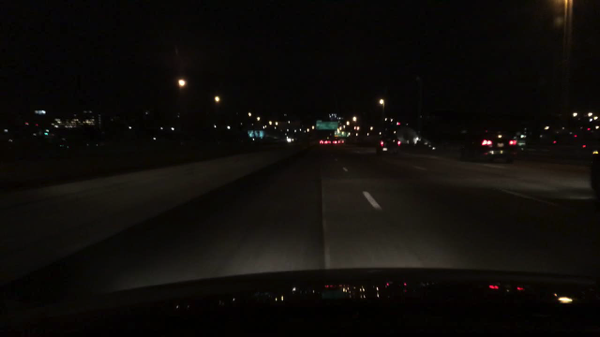car: (532, 110, 599, 147), (456, 127, 518, 164), (375, 134, 401, 155), (588, 151, 599, 197), (334, 139, 346, 145), (317, 140, 331, 144)
traffic sign: (316, 121, 339, 130), (335, 132, 348, 136)
